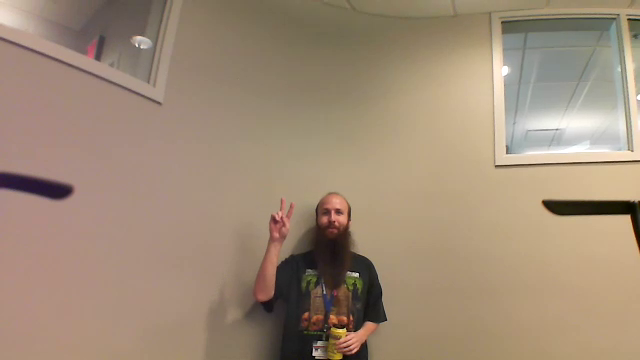peace: (263, 193, 294, 245)
